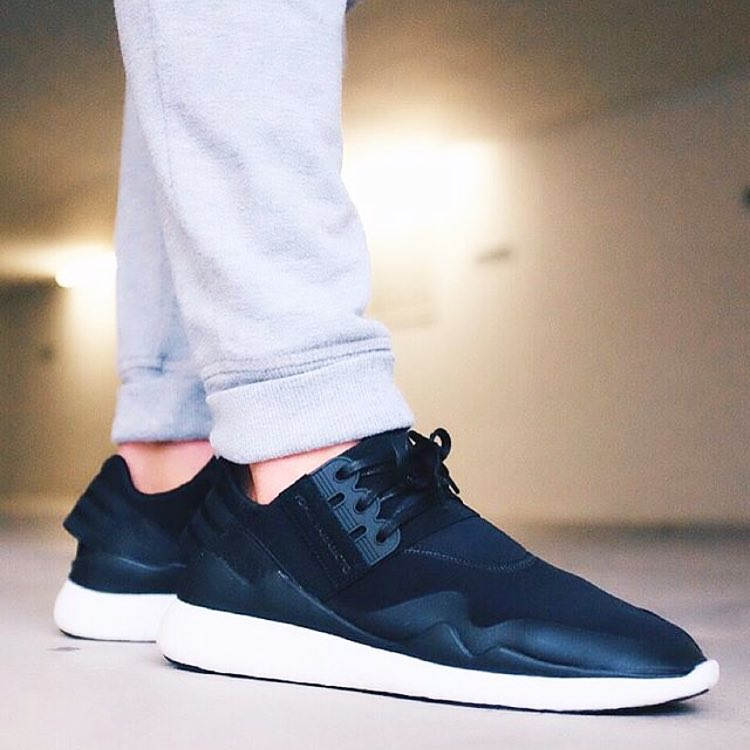sneaker: (141, 387, 736, 745), (34, 380, 244, 656)
